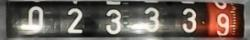digits: (27, 5, 44, 32), (104, 8, 121, 34), (66, 8, 84, 32), (144, 6, 159, 32), (181, 8, 196, 32), (215, 13, 229, 35)
